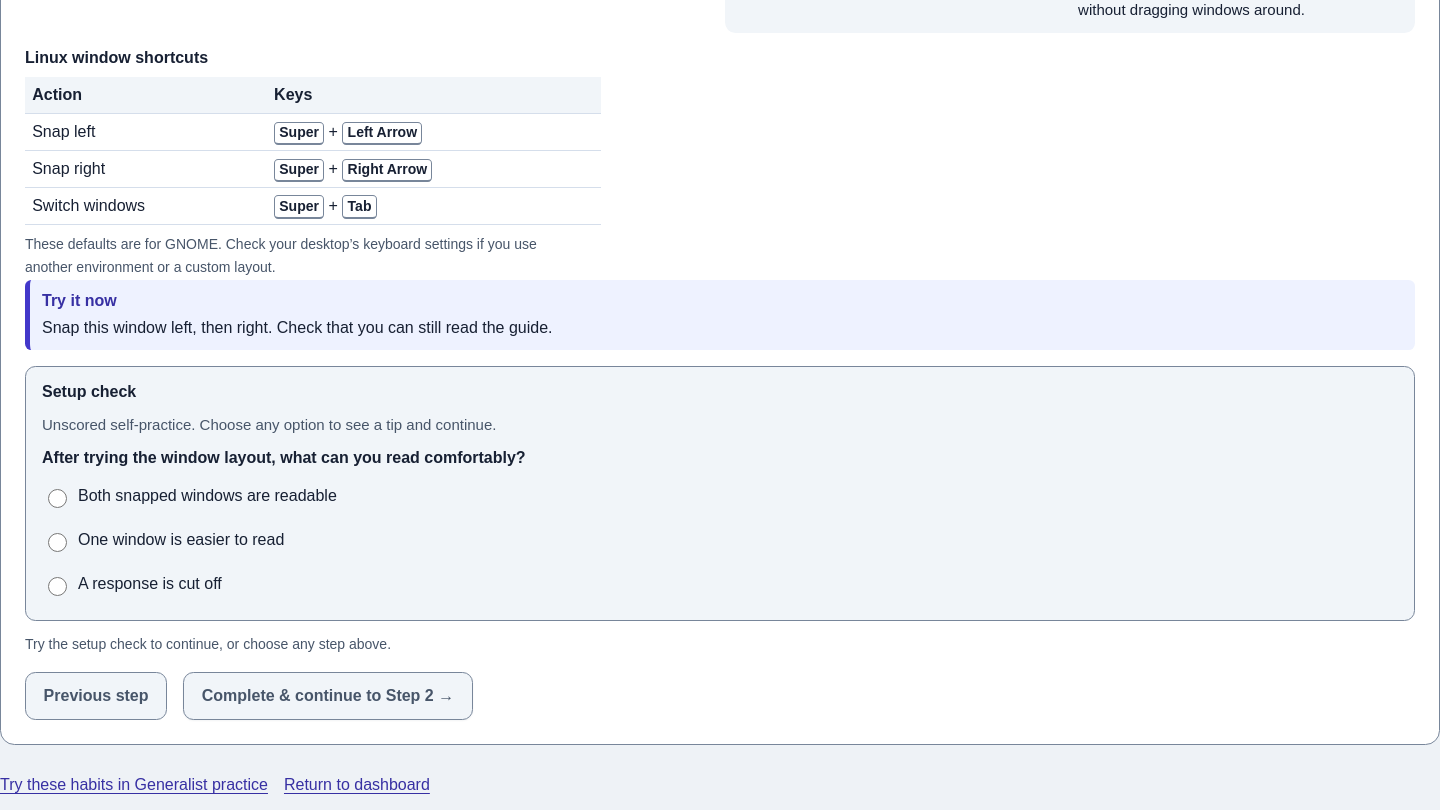
it: Workflow Skills Lab › uses a fresh start for invalid data and keeps progress in memory if storage is blocked
(page scrolled)
Click the radio button labelled "Both snapped windows are readable".
click(58, 498)  # box 48,489 -> 67,508
(page scrolled)
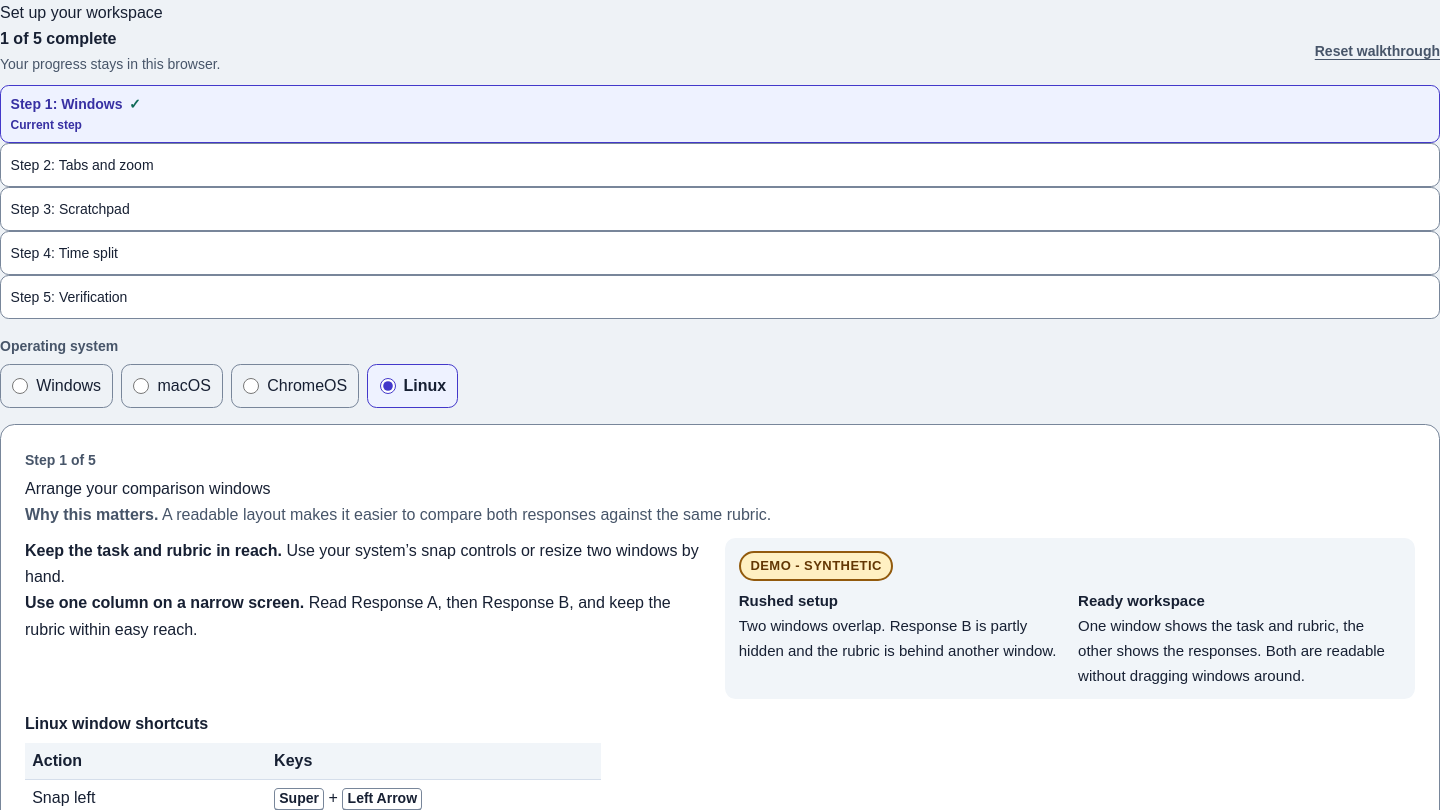
Result: the text "1 of 5 complete" is shown at 0,30 -> 116,47
